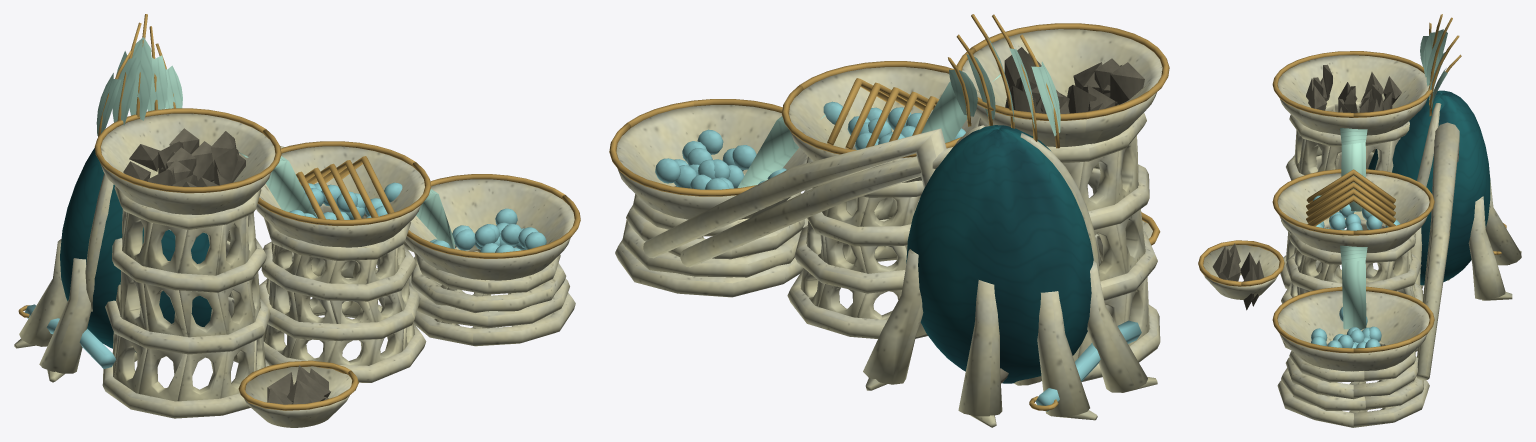
Rendered from 08_mineral_washery_lod.glb.
3 renders of one model, left to right at view 1: azimuth 30°, elevation 25°; view 2: azimuth 150°, elevation 25°; view 3: azimuth 270°, elevation 25°, orthographic. The views are drawn at different scales.
Parts seen in each view (by area): view 1: GrowthFrameMesh.007, GrowthShellMesh.007, CargoInput__raw_silicateMesh, GrowthSoftMesh.006, CargoOutput__prepared_silicaMesh.001, FlowMesh, ResidueMesh; view 2: GrowthFrameMesh.007, GrowthShellMesh.007, CargoOutput__prepared_silicaMesh.001, CargoInput__raw_silicateMesh, FlowMesh, GrowthSoftMesh.006; view 3: GrowthFrameMesh.007, GrowthShellMesh.007, FlowMesh, CargoInput__raw_silicateMesh, CargoOutput__prepared_silicaMesh.001, ResidueMesh, GrowthSoftMesh.006.
Part boxes in pixels (x1,y1,x2,y2): GrowthFrameMesh.007: (14,14,580,427); GrowthShellMesh.007: (24,148,211,368); CargoInput__raw_silicateMesh: (123,128,245,186); GrowthSoftMesh.006: (96,37,182,135); CargoOutput__prepared_silicaMesh.001: (289,182,546,252); FlowMesh: (239,152,454,248); ResidueMesh: (267,365,330,404); GrowthFrameMesh.007: (609,14,1169,427); GrowthShellMesh.007: (906,125,1141,411); CargoOutput__prepared_silicaMesh.001: (655,101,965,189); CargoInput__raw_silicateMesh: (1004,47,1144,113); FlowMesh: (737,74,1001,187); GrowthSoftMesh.006: (949,36,1060,136); GrowthFrameMesh.007: (1198,14,1521,427); GrowthShellMesh.007: (1368,90,1490,285); FlowMesh: (1340,128,1367,329); CargoInput__raw_silicateMesh: (1306,64,1401,112); CargoOutput__prepared_silicaMesh.001: (1311,195,1400,348); ResidueMesh: (1212,243,1264,310); GrowthSoftMesh.006: (1420,29,1447,109).
Bounding box in the file's own units: 4.58 × 2.93 × 3.17.
7 materials, 7 textured.
